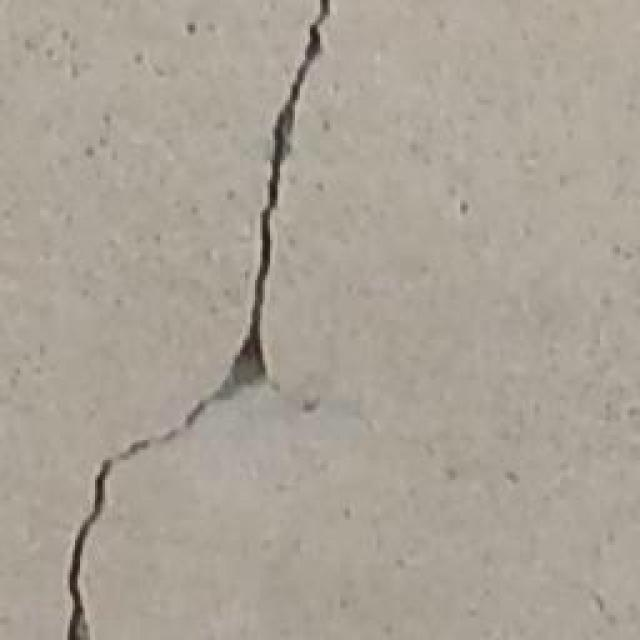concrete-crack: (65, 0, 331, 640)
